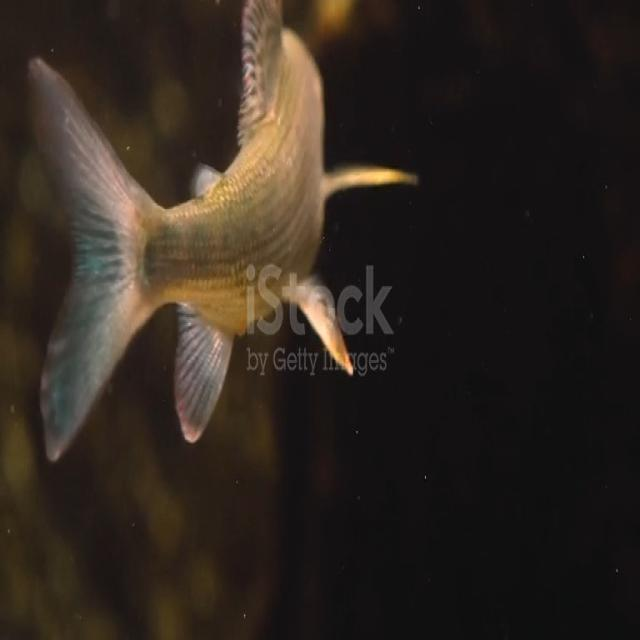fish: (31, 1, 408, 459)
